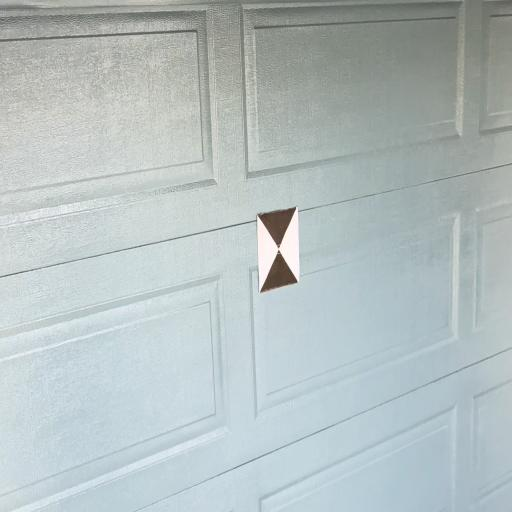target: (258, 207, 298, 291)
